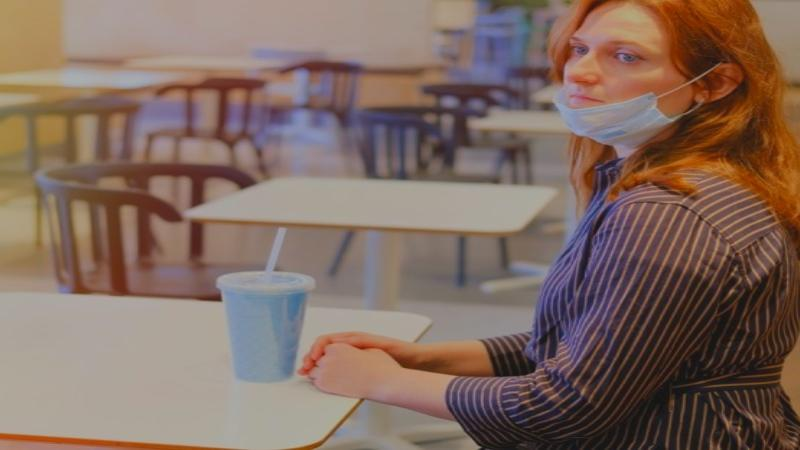mask_weared_incorrect: (554, 1, 775, 148)
